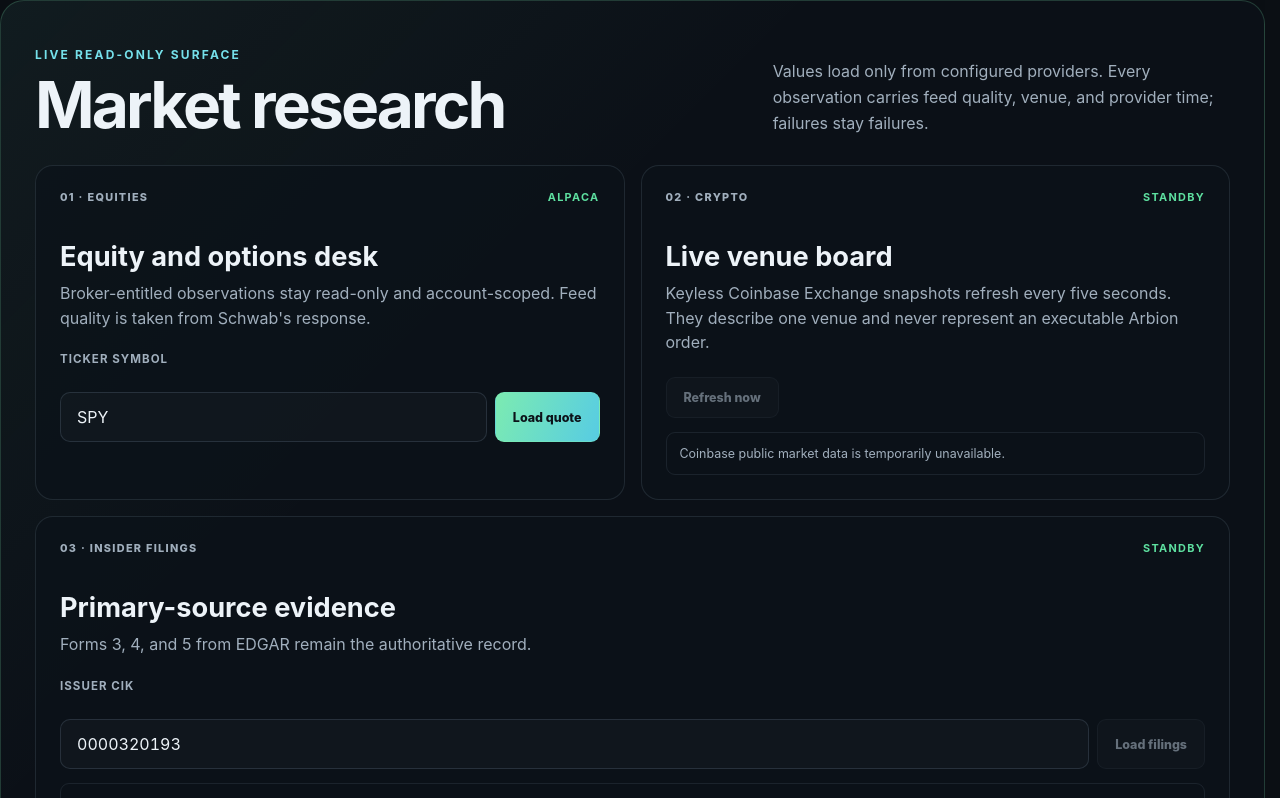
Test: MarketCommandSurface › renders a real quote with visible provenance
Click the button "Load quote": (547, 417) [495,392,600,442]
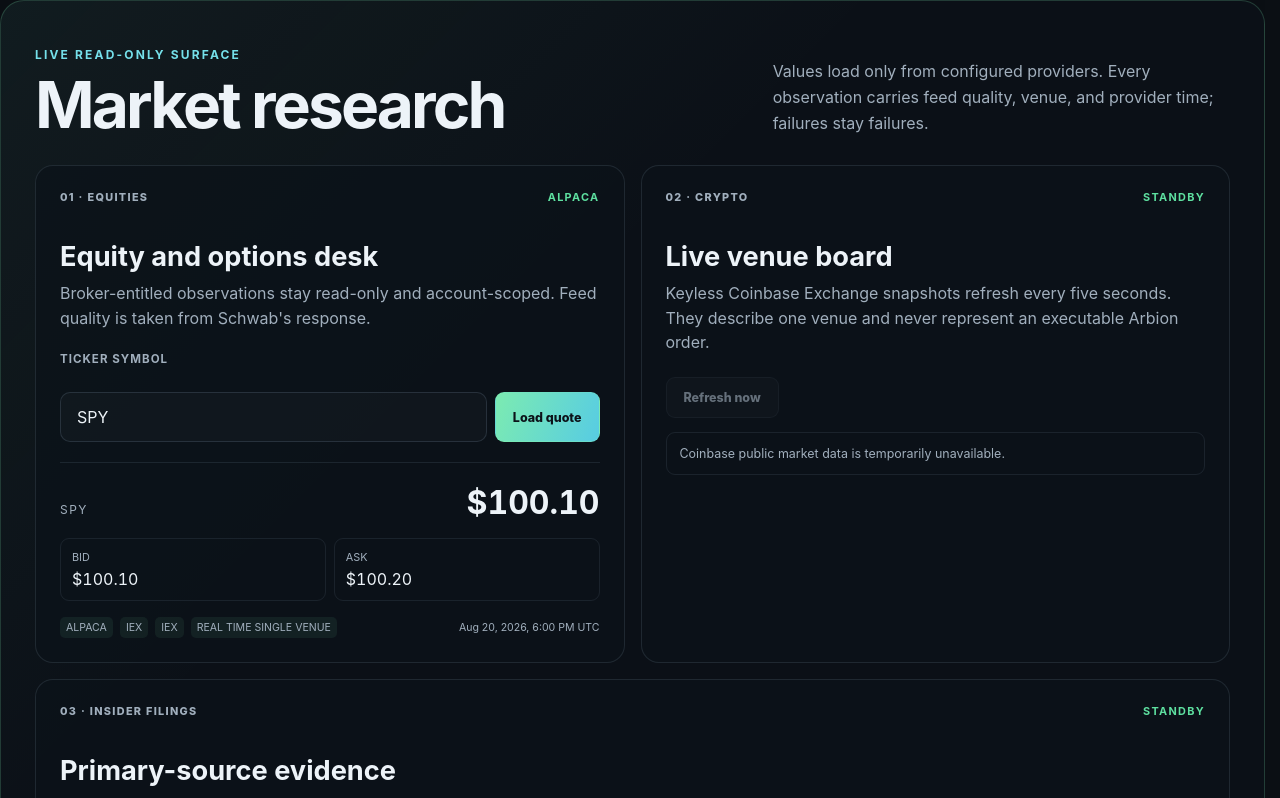
Result: the text "$100.10" is shown 2 times at [466,483,600,522]; [72,569,138,589]
Result: the 1st text "iex" is shown at [120,617,148,638]
Result: the text "real time single venue" is shown at [191,617,337,638]
